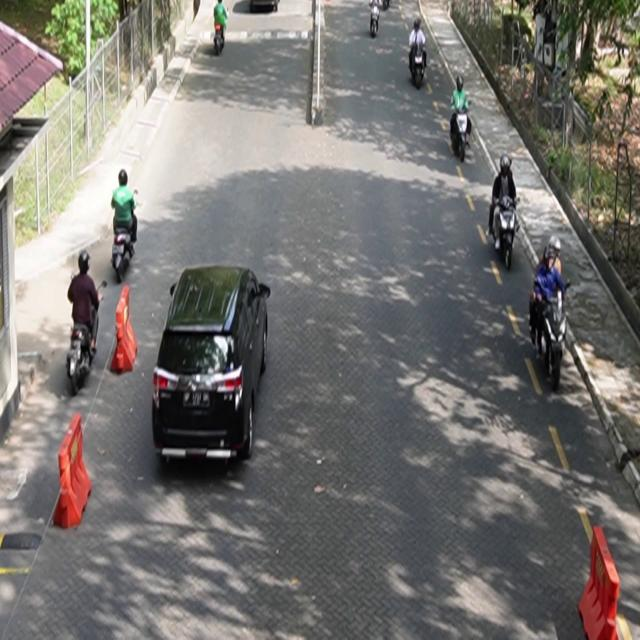car: (152, 265, 272, 466)
